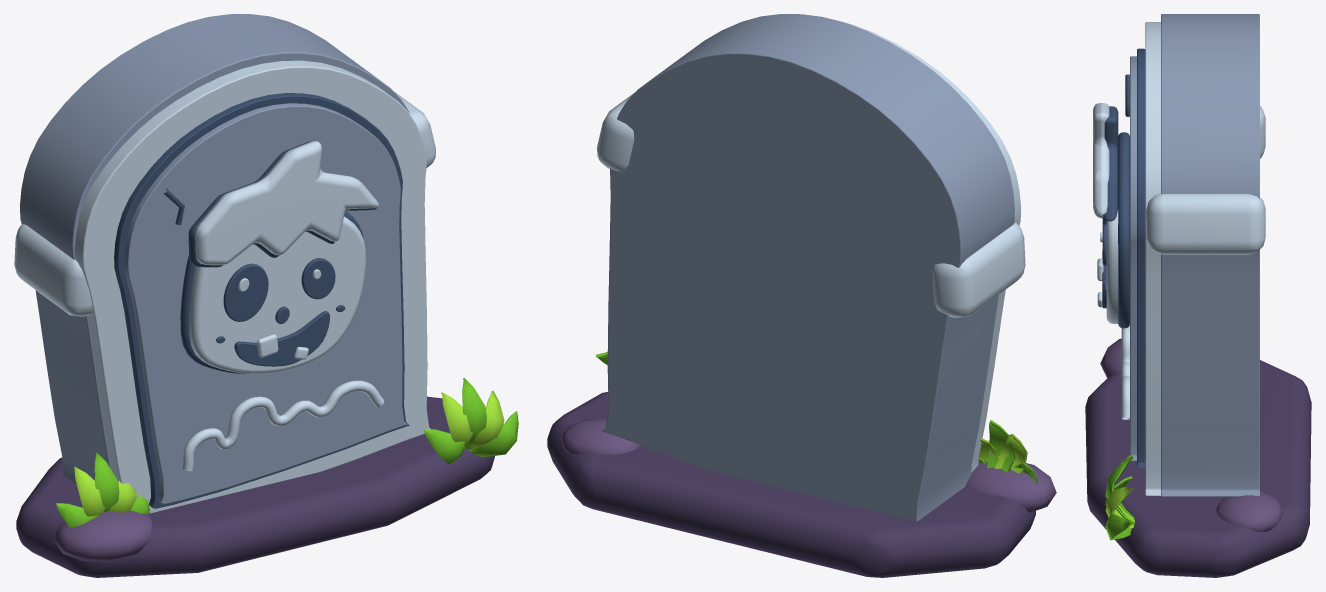
File: Grave_Stone.glb
The picture shows the model from 3 angles, left to right: view 1: azimuth 30°, elevation 25°; view 2: azimuth 150°, elevation 25°; view 3: azimuth 270°, elevation 25°; orthographic projection. The views are drawn at different scales.
Visible parts, largest first — view 1: Headstone / soft inset.001, Headstone / single thick rounded rim.001, Headstone / pudgy asymmetrical body.001, Base / single soft rock.001, Face / round squishy cheeks.001, Face / floppy rounded fringe.001, Headstone / warm panel shadow.001, Shoulder / rounded tab.002, Base / little stone.002, Ornament / little puffy cloud.001, Face / happy crooked open smile.001, Face / big curious eye.001 (+11 smaller); view 2: Headstone / pudgy asymmetrical body.001, Base / single soft rock.001, Shoulder / rounded tab.002, Base / little stone.002, Headstone / single thick rounded rim.001, Base / little stone.003, Shoulder / rounded tab.003, Grass / fat curved blade.012; view 3: Headstone / pudgy asymmetrical body.001, Base / single soft rock.001, Shoulder / rounded tab.003, Headstone / single thick rounded rim.001, Headstone / warm panel shadow.001, Headstone / soft inset.001, Face / shallow outline.001, Base / little stone.003, Face / floppy rounded fringe.001, Face / floppy fringe shadow.001, Face / round squishy cheeks.001, Ornament / little puffy cloud.001 (+4 smaller).
Boxes of the visible parts, bbox=[...] form: Headstone / soft inset.001: bbox=[124, 103, 407, 504]; Headstone / single thick rounded rim.001: bbox=[74, 60, 430, 513]; Headstone / pudgy asymmetrical body.001: bbox=[20, 14, 409, 484]; Base / single soft rock.001: bbox=[16, 396, 494, 577]; Face / round squishy cheeks.001: bbox=[189, 216, 365, 373]; Face / floppy rounded fringe.001: bbox=[195, 141, 379, 265]; Headstone / warm panel shadow.001: bbox=[114, 93, 409, 508]; Shoulder / rounded tab.002: bbox=[14, 224, 92, 316]; Base / little stone.002: bbox=[53, 510, 152, 561]; Ornament / little puffy cloud.001: bbox=[182, 380, 384, 471]; Face / happy crooked open smile.001: bbox=[234, 311, 329, 366]; Face / big curious eye.001: bbox=[223, 263, 268, 321]; Headstone / pudgy asymmetrical body.001: bbox=[602, 14, 1014, 521]; Base / single soft rock.001: bbox=[547, 392, 1035, 577]; Shoulder / rounded tab.002: bbox=[932, 223, 1025, 317]; Base / little stone.002: bbox=[965, 462, 1056, 512]; Headstone / single thick rounded rim.001: bbox=[846, 23, 1020, 472]; Base / little stone.003: bbox=[560, 418, 640, 454]; Shoulder / rounded tab.003: bbox=[597, 92, 634, 171]; Grass / fat curved blade.012: bbox=[987, 420, 1015, 472]; Headstone / pudgy asymmetrical body.001: bbox=[1161, 14, 1259, 496]; Base / single soft rock.001: bbox=[1085, 360, 1311, 577]; Shoulder / rounded tab.003: bbox=[1146, 193, 1265, 254]; Headstone / single thick rounded rim.001: bbox=[1145, 22, 1161, 495]; Headstone / warm panel shadow.001: bbox=[1137, 48, 1145, 468]; Headstone / soft inset.001: bbox=[1130, 56, 1136, 460]; Face / shallow outline.001: bbox=[1118, 132, 1129, 328]; Base / little stone.003: bbox=[1216, 492, 1282, 531]; Face / floppy rounded fringe.001: bbox=[1093, 103, 1109, 218]; Face / floppy fringe shadow.001: bbox=[1102, 106, 1118, 222]; Face / round squishy cheeks.001: bbox=[1106, 209, 1118, 323]; Ornament / little puffy cloud.001: bbox=[1121, 324, 1129, 419].
Size of the model in its own units: 2.65 by 2.63 by 1.23.
